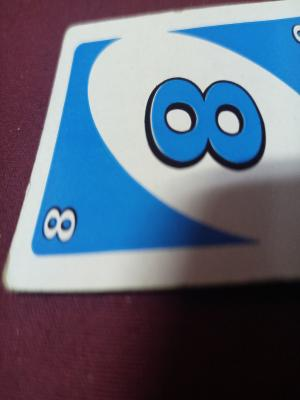blue: (69, 44, 300, 251)
num_8: (41, 198, 79, 253)
